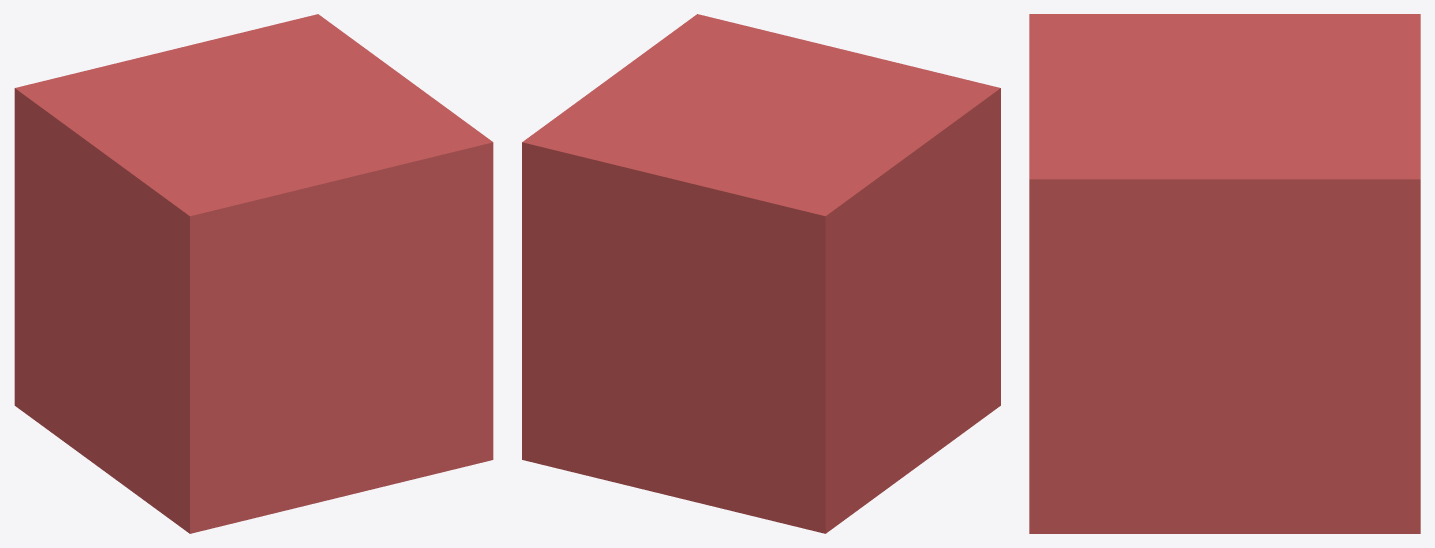
The model's file is onimasu.glb.
3 renders of one model, left to right at view 1: azimuth 30°, elevation 25°; view 2: azimuth 150°, elevation 25°; view 3: azimuth 270°, elevation 25°, orthographic. The views are drawn at different scales.
Visible parts, largest first — view 1: onimasu_col; view 2: onimasu_col; view 3: onimasu_col.
Part boxes in pixels (left/top/right/bottom): onimasu_col: left=14, top=14, right=493, bottom=533; onimasu_col: left=522, top=14, right=1000, bottom=533; onimasu_col: left=1029, top=14, right=1420, bottom=533.
Bounding box in the file's own units: 0.5005 × 0.5003 × 0.5001.
